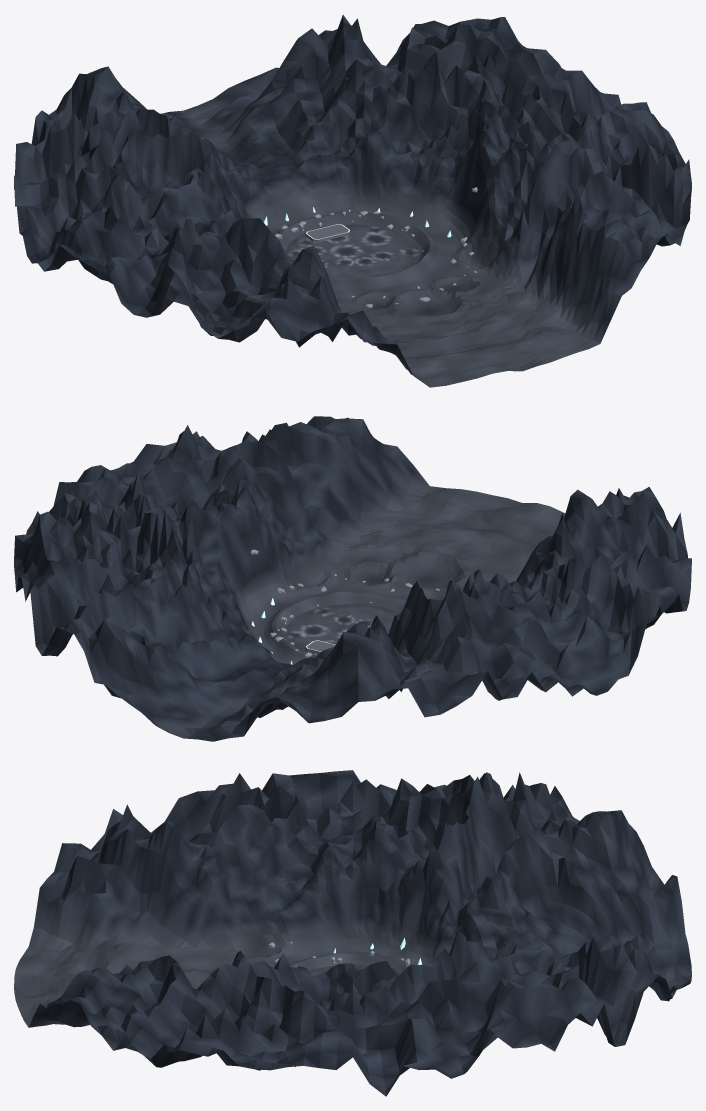
The model's file is stage_fludd.glb.
The picture shows the model from 3 angles, top to bottom: view 1: azimuth 30°, elevation 25°; view 2: azimuth 150°, elevation 25°; view 3: azimuth 270°, elevation 25°; orthographic projection.
Parts seen in each view (by area): view 1: fludd_lunar_mountains, fludd_floor, fludd_boulders; view 2: fludd_lunar_mountains, fludd_floor; view 3: fludd_lunar_mountains.
Boxes of the visible parts, left/top/right/bottom form: fludd_lunar_mountains: left=14, top=15, right=691, bottom=387; fludd_floor: left=286, top=224, right=419, bottom=277; fludd_boulders: left=275, top=187, right=477, bottom=307; fludd_lunar_mountains: left=14, top=416, right=691, bottom=741; fludd_floor: left=286, top=604, right=400, bottom=654; fludd_lunar_mountains: left=14, top=770, right=691, bottom=1096.
Size of the model in its own units: 340 by 80 by 340.
